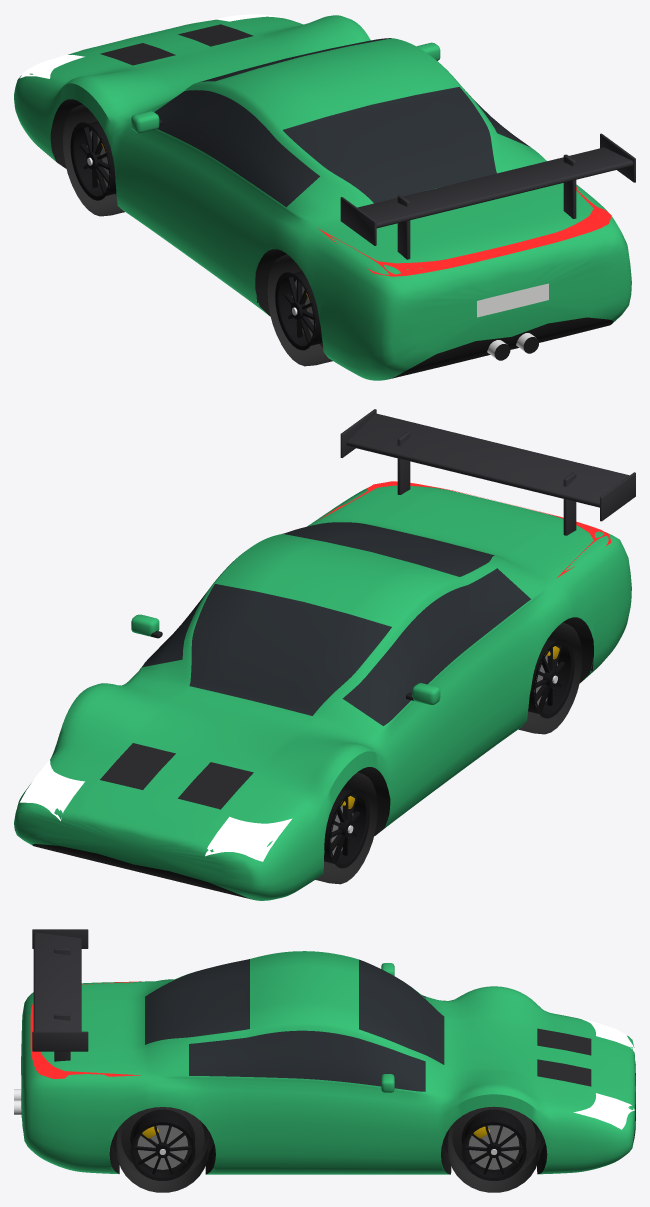
3 views of the same model, one above another, from view 1: azimuth 30°, elevation 25°; view 2: azimuth 150°, elevation 25°; view 3: azimuth 270°, elevation 25° (orthographic). The views are drawn at different scales.
Visible parts, largest first — view 1: Body, Wheel_RL, Wheel_FL; view 2: Body, Wheel_FL, Wheel_RL; view 3: Body, Wheel_FR, Wheel_RR.
Part boxes in pixels (x1,y1,x2,y2): Body: (14,14,635,380); Wheel_RL: (267,254,332,366); Wheel_FL: (63,104,124,216); Body: (14,409,635,900); Wheel_FL: (315,772,377,884); Wheel_RL: (518,622,582,734); Body: (14,929,635,1174); Wheel_FR: (447,1106,540,1192); Wheel_RR: (116,1107,209,1192).
Size of the model in its own units: 2.11 by 1.33 by 4.62.
